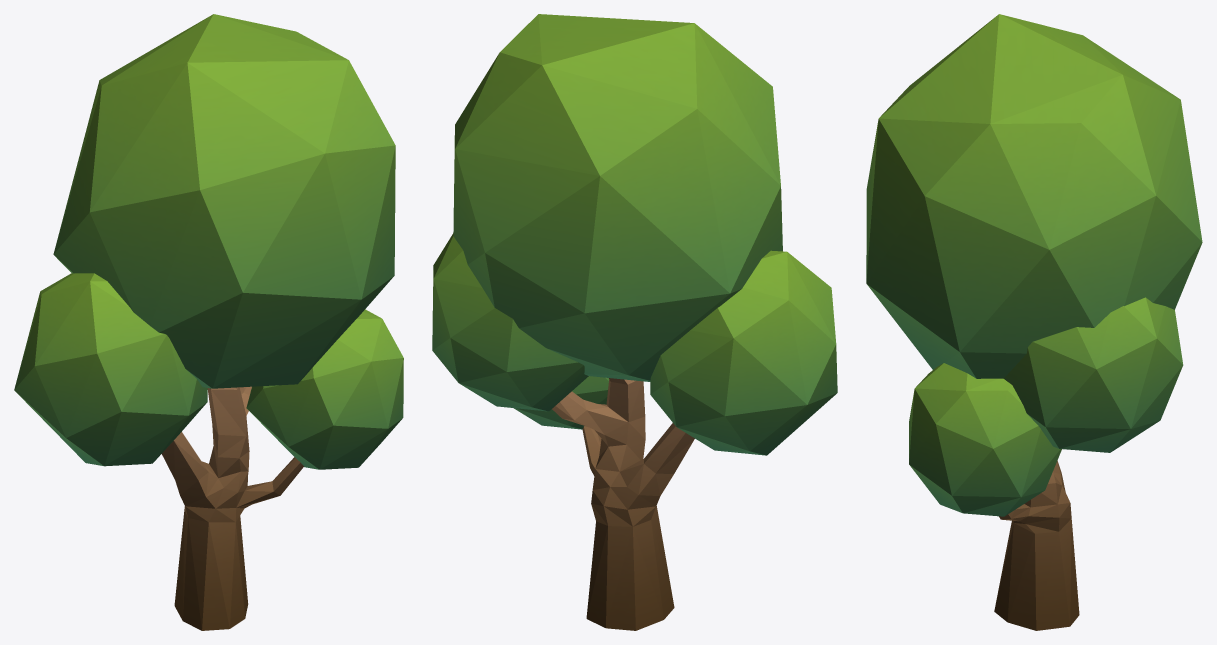
The model's file is ZLP_Plant_I_11.FBX.
3 renders of one model, left to right at view 1: azimuth 30°, elevation 25°; view 2: azimuth 150°, elevation 25°; view 3: azimuth 270°, elevation 25°, orthographic. The views are drawn at different scales.
Parts seen in each view (by area): view 1: ZLP_Plant_I_11; view 2: ZLP_Plant_I_11; view 3: ZLP_Plant_I_11.
Part boxes in pixels (bbox=[...]): ZLP_Plant_I_11: bbox=[14, 14, 403, 630]; ZLP_Plant_I_11: bbox=[432, 14, 837, 630]; ZLP_Plant_I_11: bbox=[866, 14, 1202, 630].
Bounding box in the file's own units: 78.18 × 121 × 63.67.
